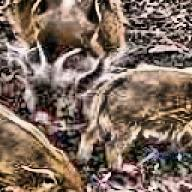boar: (15, 44, 192, 172), (0, 85, 85, 192), (0, 0, 127, 64)
